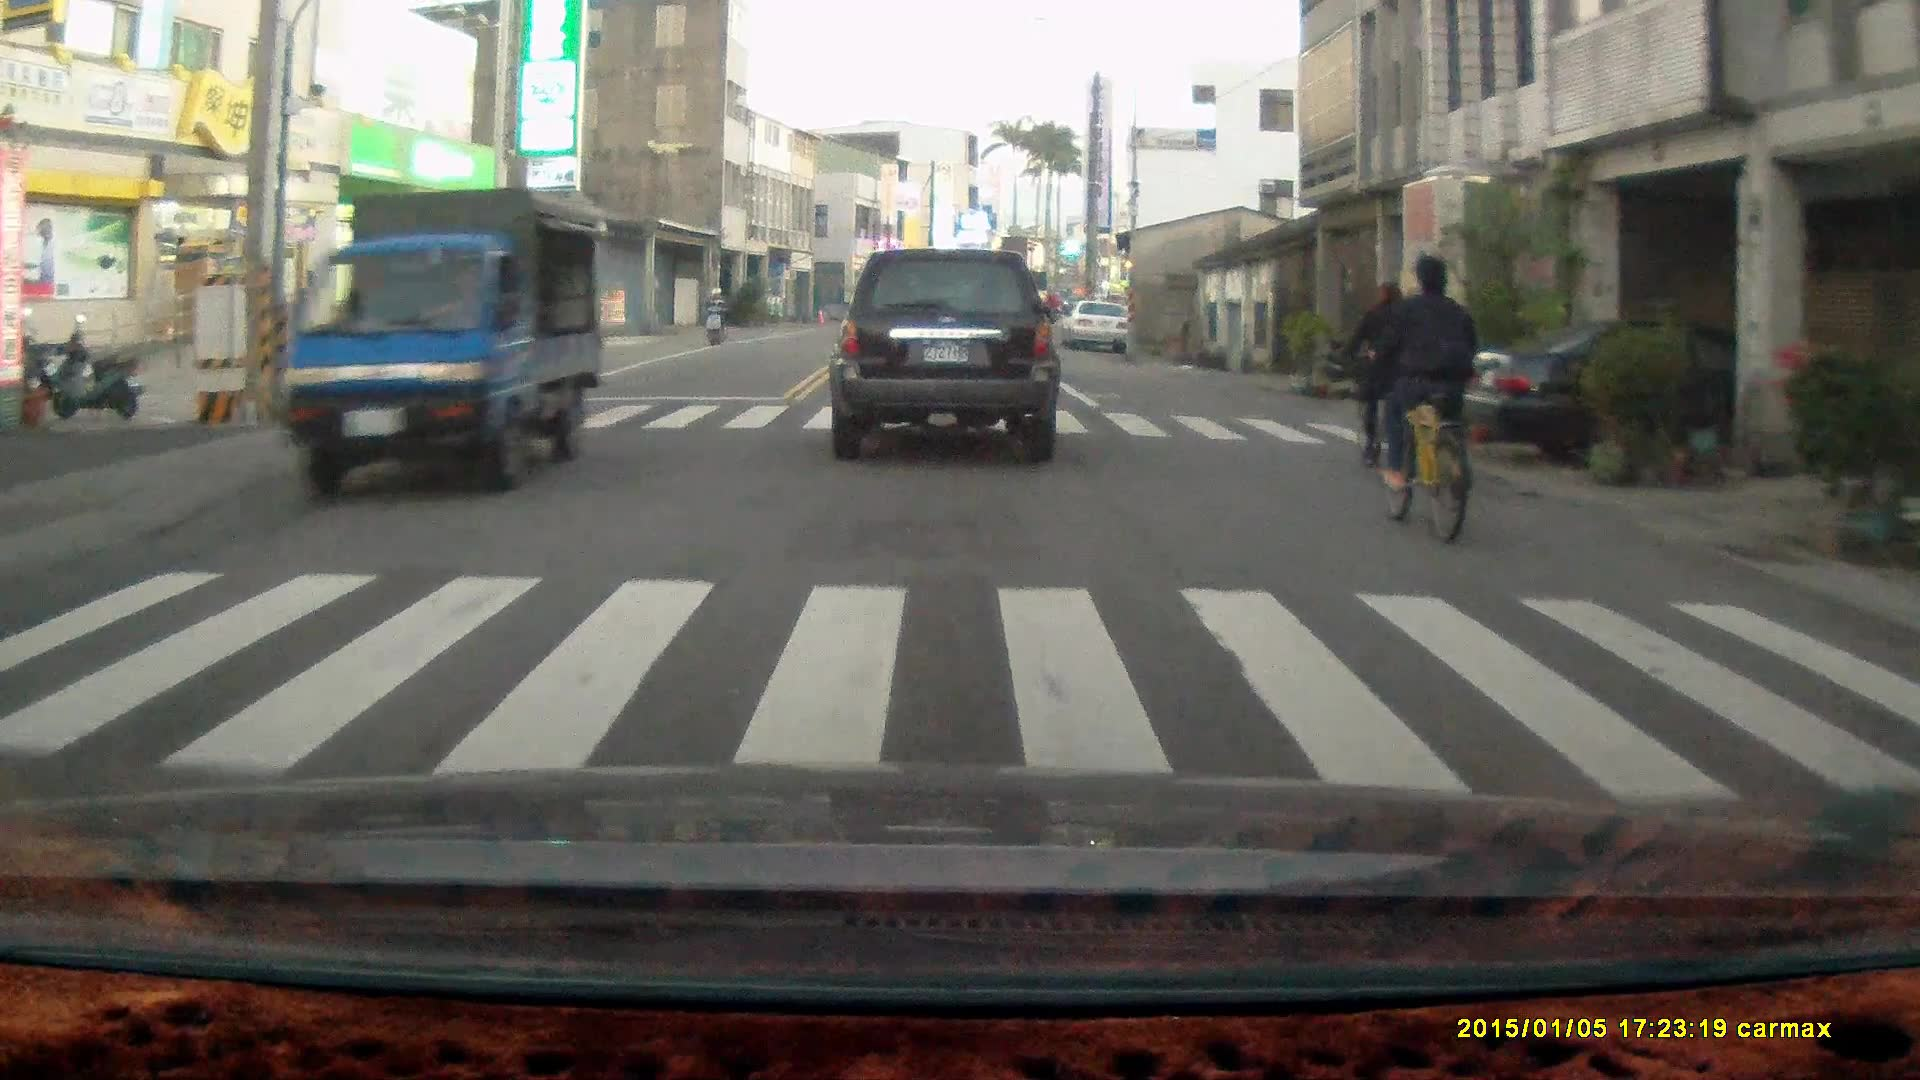rider: (1366, 254, 1477, 549), (1340, 279, 1414, 478), (701, 283, 728, 347)
vehicle: (283, 183, 613, 496), (1456, 315, 1899, 474), (826, 246, 1062, 463), (1059, 303, 1135, 358)
